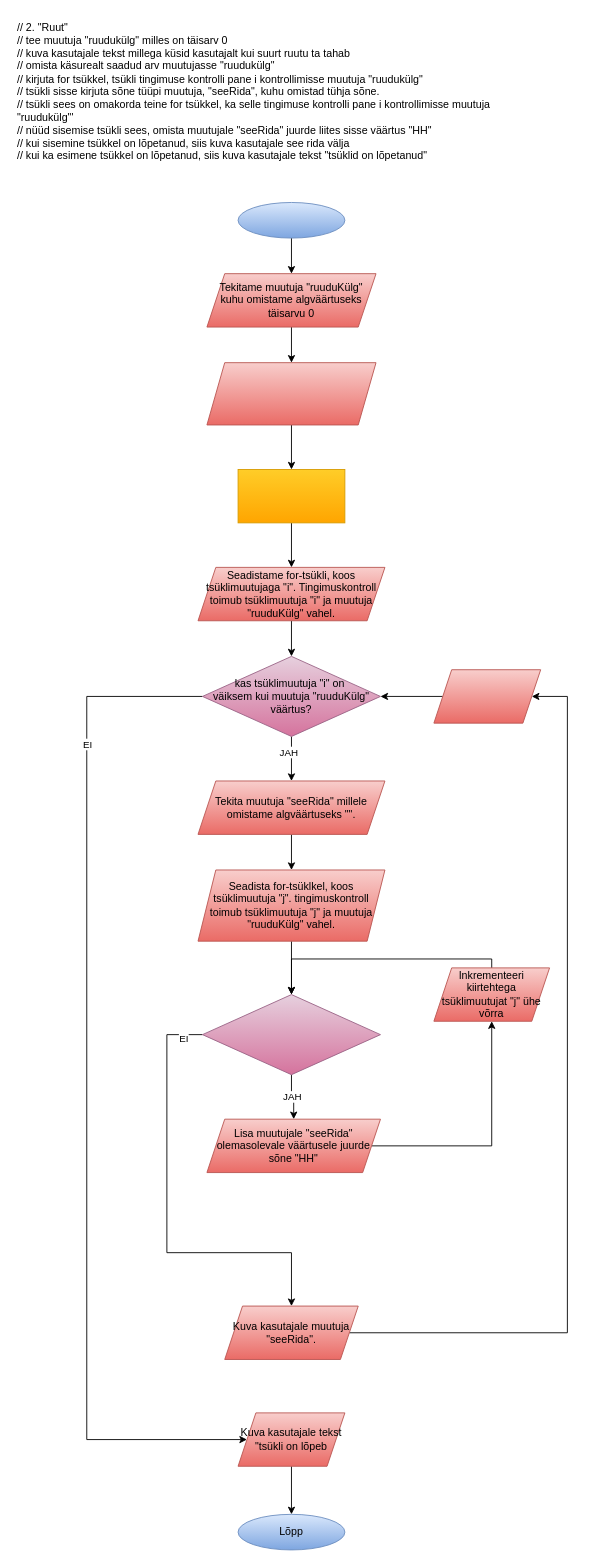
The diagram is 590 pixels wide and 1566 high, and some of its shapes have lost their labels. The shapes that lost their labels are listed below. From the top down, each one's box as (x1, y1, x2, y2) in pixels, then its label:
(237, 202, 345, 238): Algus
(206, 362, 376, 425): kuva kasutajale tekst "kui suurt ruutu tahad näha?"
(237, 469, 345, 523): ootame kui kasutajale sisestab muutujasse "ruuduKülg" väärtuse
(433, 669, 541, 723): Inkrementeeri kiirtehtega tsüklimuutujat "i" ühe võrra
(202, 994, 380, 1075): kas tsüklimuutuja "j" on väiksem kui muutuja "ruuduKülg" väärtus?
